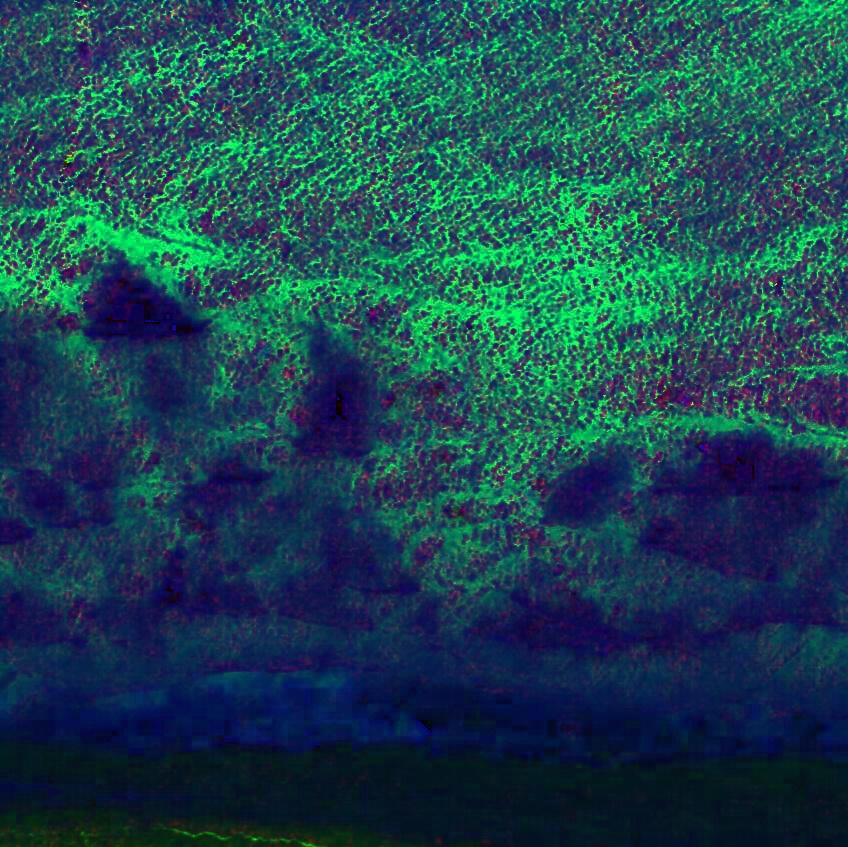rip_current: (289, 235, 625, 669)
